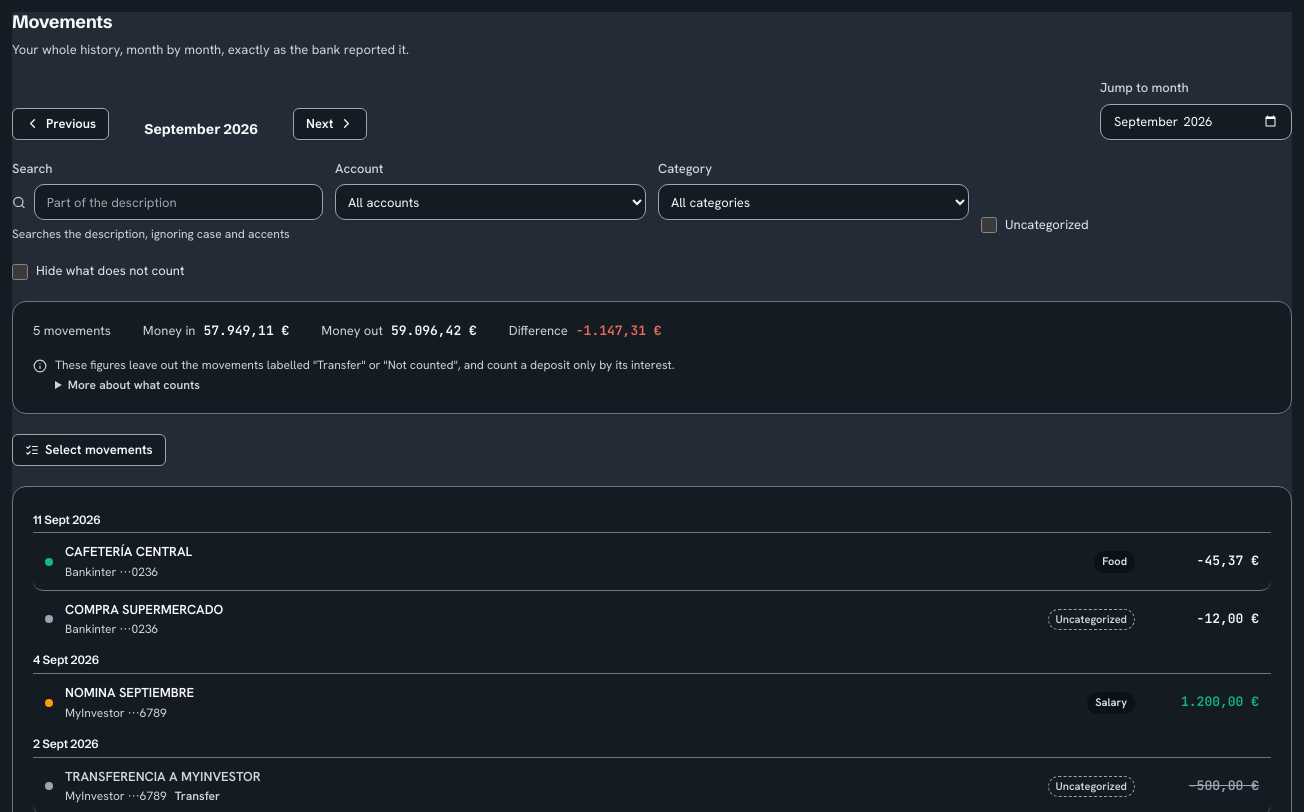
Test: StatementView › correcting a category from the screen (feature 21) › writes the chosen category and paints the answer, with no month reload (R1, R7, R9)
The image size is (1304, 812).
Step 1. Click the button with test id "statement-row-category-button" showing "Food" → coordinates (1115, 562), box [1094,550,1135,573]
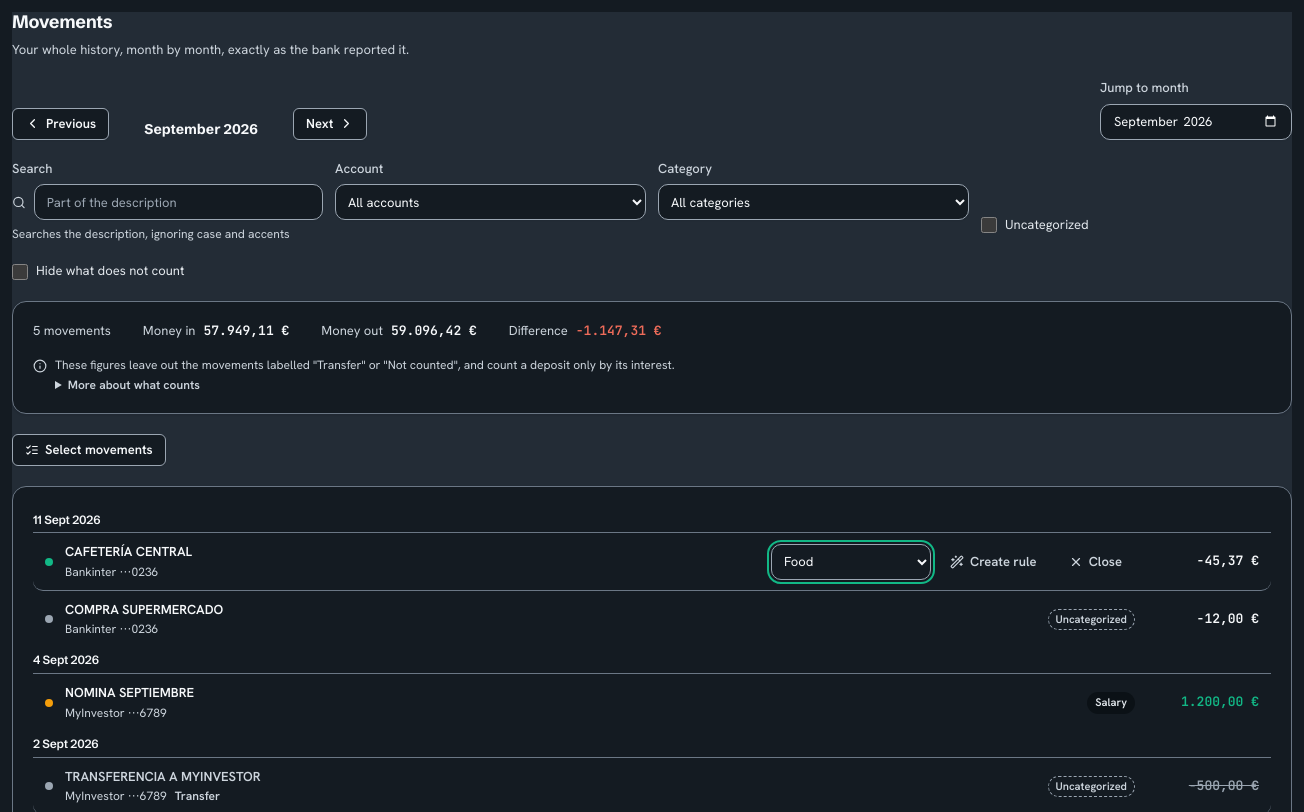
Step 2. Select "Groceries" in the 3rd dropdown → coordinates (851, 562), box [771,544,931,580]
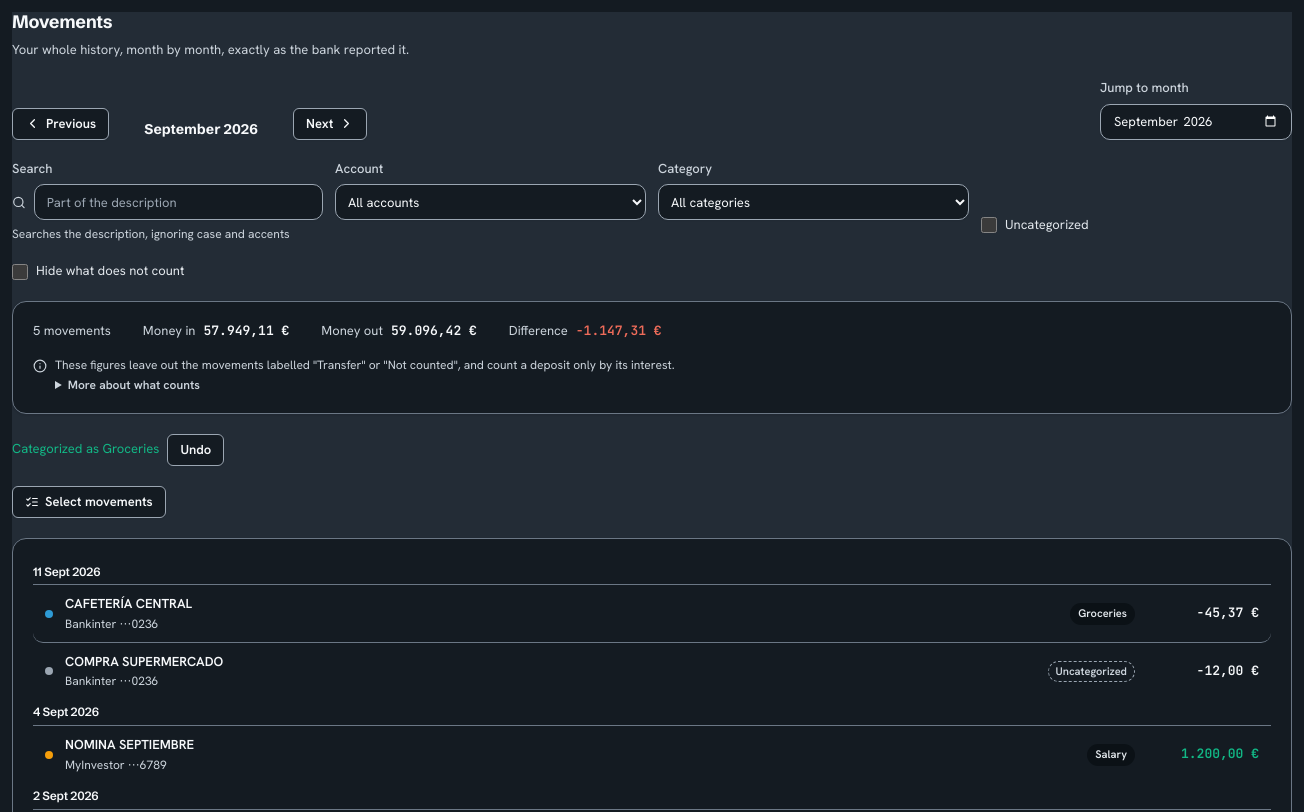
Result: the text with test id "statement-row-category" reads "Groceries" at [1078,606,1127,620]
Result: no elements with test id "row-category-editor" are shown
Result: the element with test id "statement-action-summary" shows "Categorized as Groceries" at [12,440,159,457]
